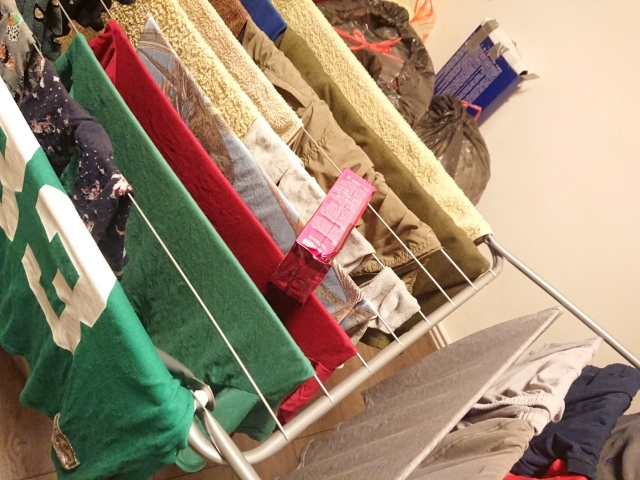Barcaffe Classic Original 225g: (264, 164, 379, 307)
